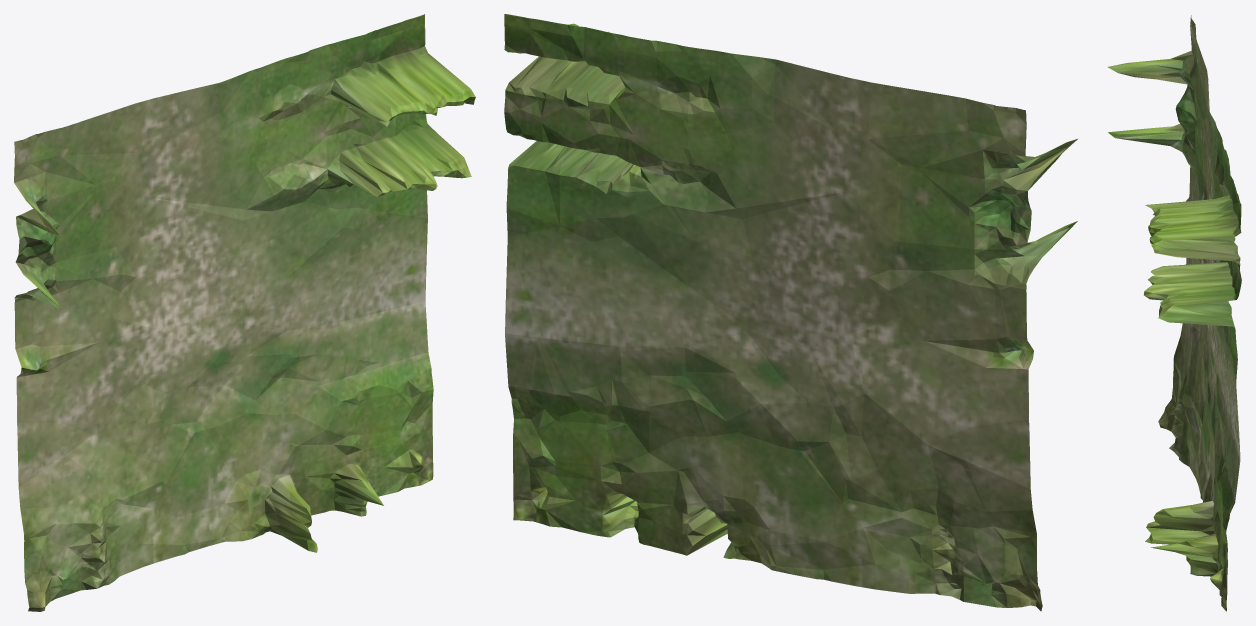
Rendered from map_10_10.obj.
3 views of the same model, side by side, from view 1: azimuth 30°, elevation 25°; view 2: azimuth 150°, elevation 25°; view 3: azimuth 270°, elevation 25° (orthographic). The views are drawn at different scales.
Visible parts, largest first — view 1: grp1; view 2: grp1; view 3: grp1.
Boxes of the visible parts, left/top/right/bottom form: grp1: left=14, top=14, right=475, bottom=611; grp1: left=504, top=14, right=1077, bottom=611; grp1: left=1107, top=15, right=1241, bottom=611.
Size of the model in its own units: 10 by 10 by 2.99.
Materials: 1 (1 with a texture image).
